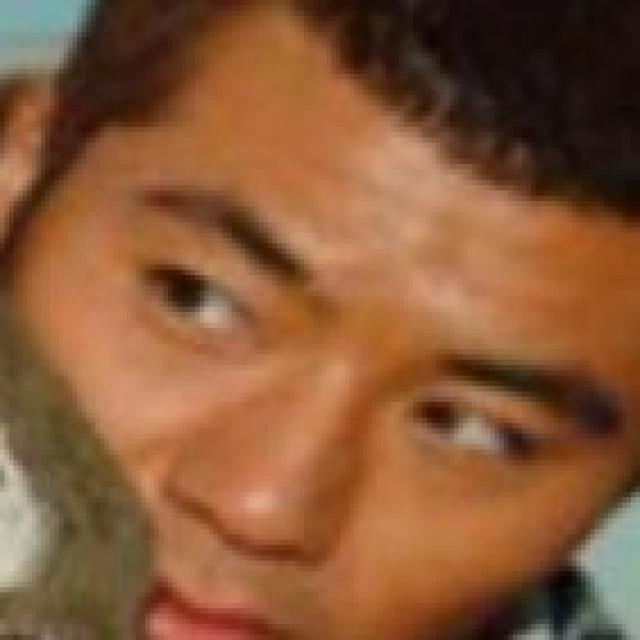no_mask: (72, 34, 623, 640)
